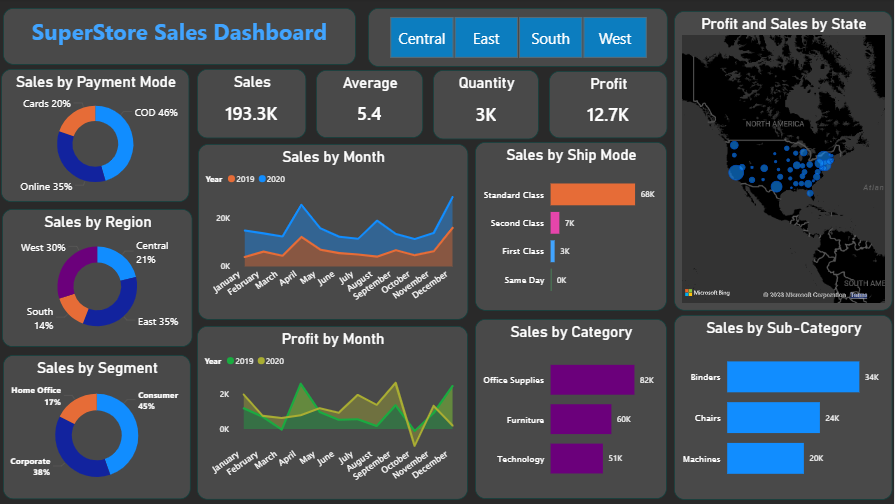

This screenshot's page, from the dashboard's own definition file:
{"tool":"powerbi","page":{"name":"Page 1","canvas":[1280,720],"ordinal":0},"visuals":[{"type":"clusteredBarChart","title":" Sales by Category","fields":{"Category":["SuperStore_Sales_Dataset.Category"],"Y":["Sum(SuperStore_Sales_Dataset.Sales)"]},"box":[681.7,456.4,273.5,256.5],"z":0},{"type":"clusteredBarChart","title":" Sales by Sub-Category","fields":{"Category":["SuperStore_Sales_Dataset.Sub-Category"],"Y":["Sum(SuperStore_Sales_Dataset.Sales)"]},"box":[965.2,450.7,311.8,263.6],"z":1000},{"type":"clusteredBarChart","title":" Sales by Ship Mode","fields":{"Category":["SuperStore_Sales_Dataset.Ship Mode"],"Y":["Sum(SuperStore_Sales_Dataset.Sales)"]},"box":[681.7,202.7,273.5,240.9],"z":2000},{"type":"stackedAreaChart","title":" Sales by Month","fields":{"Y":["Sum(SuperStore_Sales_Dataset.Sales)"],"Series":["SuperStore_Sales_Dataset.Order Date.Variation.Date Hierarchy.Year"],"Category":["SuperStore_Sales_Dataset.Order Date.Variation.Date Hierarchy.Month","SuperStore_Sales_Dataset.Order Date.Variation.Date Hierarchy.Day"]},"box":[286.3,205.5,385.5,250.9],"z":3000},{"type":"stackedAreaChart","title":" Profit by Month","fields":{"Series":["SuperStore_Sales_Dataset.Order Date.Variation.Date Hierarchy.Year"],"Category":["SuperStore_Sales_Dataset.Order Date.Variation.Date Hierarchy.Month","SuperStore_Sales_Dataset.Order Date.Variation.Date Hierarchy.Day"],"Y":["Sum(SuperStore_Sales_Dataset.Profit)"]},"box":[284.9,466.3,386.9,248],"z":4000},{"type":"map","title":"Profit and Sales by State","fields":{"Category":["SuperStore_Sales_Dataset.State"],"Size":["Sum(SuperStore_Sales_Dataset.Sales)"]},"box":[965.2,15.6,311.8,428],"z":5000},{"type":"donutChart","title":" Sales by Segment","fields":{"Category":["SuperStore_Sales_Dataset.Segment"],"Y":["Sum(SuperStore_Sales_Dataset.Sales)"]},"box":[7.1,507.4,267.9,205.5],"z":6000},{"type":"donutChart","title":"Sales by Payment Mode","fields":{"Category":["SuperStore_Sales_Dataset.Payment Mode"],"Y":["Sum(SuperStore_Sales_Dataset.Sales)"]},"box":[4.3,99.2,269.3,189.9],"z":7000},{"type":"slicer","fields":{"Values":["SuperStore_Sales_Dataset.Region"]},"box":[528.7,11.3,428,83.6],"z":8000},{"type":"textbox","box":[7.1,11.4,504.3,81.4],"z":9000},{"type":"cardVisual","title":"Sales","fields":{"Data":["Sum(SuperStore_Sales_Dataset.Sales)"]},"box":[284.9,99.2,155.9,99.2],"z":10000},{"type":"cardVisual","title":"Quantity","fields":{"Data":["Sum(SuperStore_Sales_Dataset.Quantity)"]},"box":[621.4,100,151.4,98.6],"z":11000},{"type":"cardVisual","title":"Average","fields":{"Data":["Avg(SuperStore_Sales_Dataset.AvgDelivery)"]},"box":[454.3,100,152.9,97.1],"z":12000},{"type":"cardVisual","title":"Profit","fields":{"Data":["Sum(SuperStore_Sales_Dataset.Profit)"]},"box":[786.6,102,168.7,96.4],"z":13000},{"type":"donutChart","title":"Sales by Region","fields":{"Y":["Sum(SuperStore_Sales_Dataset.Sales)"],"Series":["SuperStore_Sales_Dataset.Region"]},"box":[5.7,299.1,272.1,197],"z":14000}]}

Visuals, with their boxes in screenshot pixels (x1, y1, x2, y2), scaled from the page's 1280x720 canvas onto the 895x504 screenshot:
" Sales by Category" clusteredBarChart: x1=477 y1=319 x2=668 y2=499
" Sales by Sub-Category" clusteredBarChart: x1=675 y1=315 x2=893 y2=500
" Sales by Ship Mode" clusteredBarChart: x1=477 y1=142 x2=668 y2=311
" Sales by Month" stackedAreaChart: x1=200 y1=144 x2=470 y2=319
" Profit by Month" stackedAreaChart: x1=199 y1=326 x2=470 y2=500
"Profit and Sales by State" map: x1=675 y1=11 x2=893 y2=311
" Sales by Segment" donutChart: x1=5 y1=355 x2=192 y2=499
"Sales by Payment Mode" donutChart: x1=3 y1=69 x2=191 y2=202
slicer - SuperStore_Sales_Dataset.Region: x1=370 y1=8 x2=669 y2=66
textbox: x1=5 y1=8 x2=358 y2=65
"Sales" cardVisual: x1=199 y1=69 x2=308 y2=139
"Quantity" cardVisual: x1=434 y1=70 x2=540 y2=139
"Average" cardVisual: x1=318 y1=70 x2=425 y2=138
"Profit" cardVisual: x1=550 y1=71 x2=668 y2=139
"Sales by Region" donutChart: x1=4 y1=209 x2=194 y2=347
